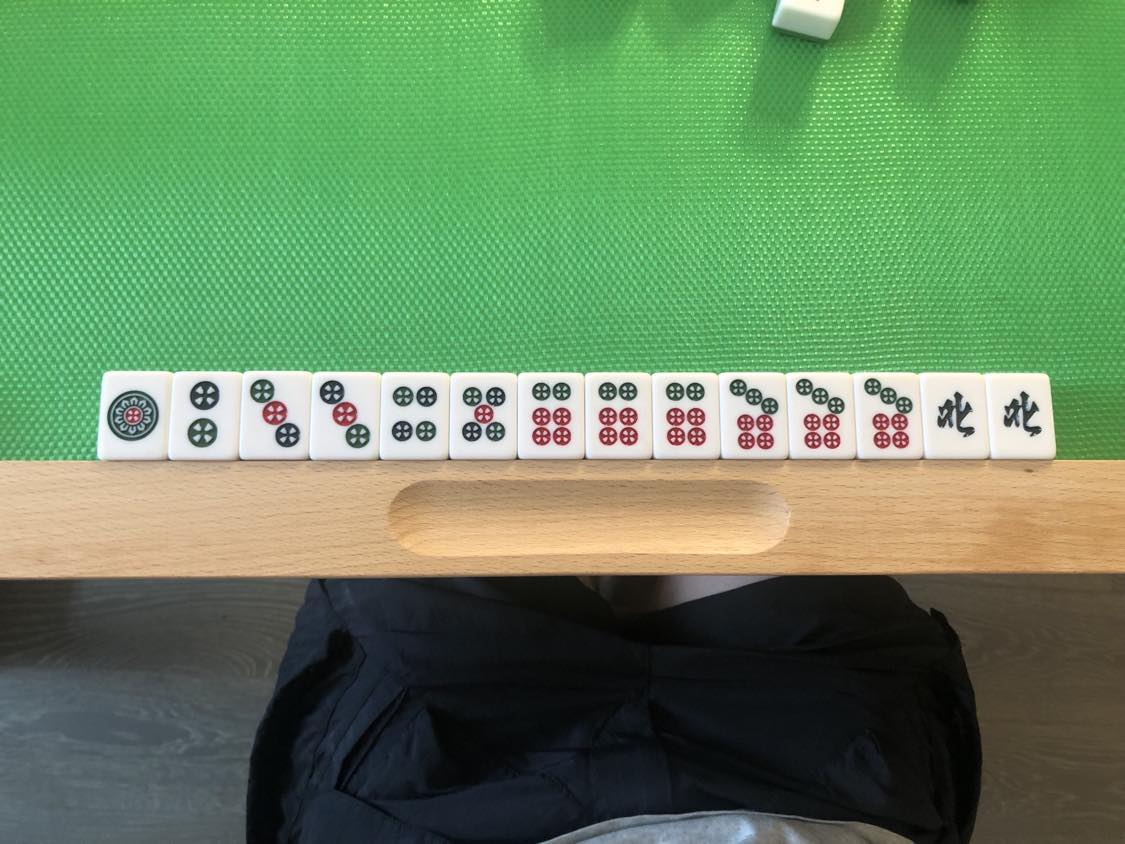circle-five: (455, 376, 511, 451)
circle-four: (385, 377, 443, 450)
circle-one: (106, 378, 164, 454)
circle-seven: (792, 374, 848, 454), (860, 376, 916, 454), (725, 376, 781, 452)
circle-six: (524, 377, 580, 454), (592, 376, 645, 452), (659, 376, 711, 452)
circle-three: (245, 376, 304, 453), (316, 376, 374, 452)
circle-two: (178, 375, 232, 453)
honor-north_wind: (929, 380, 982, 447), (999, 380, 1045, 448)
